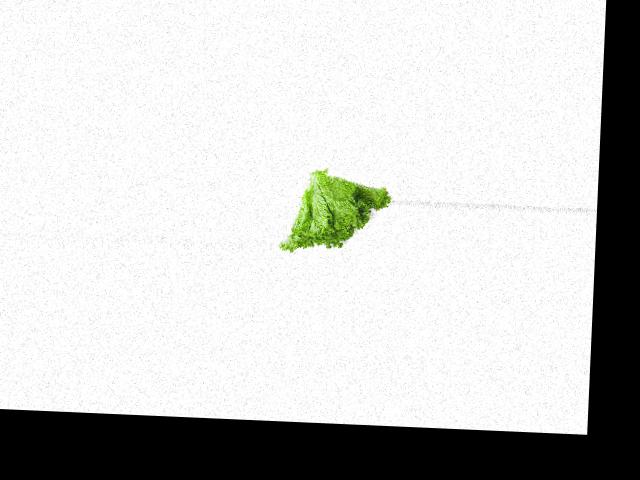lettuce: (278, 169, 393, 259)
